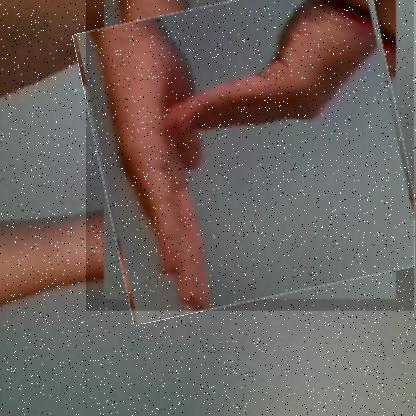Z: (86, 0, 415, 312)
